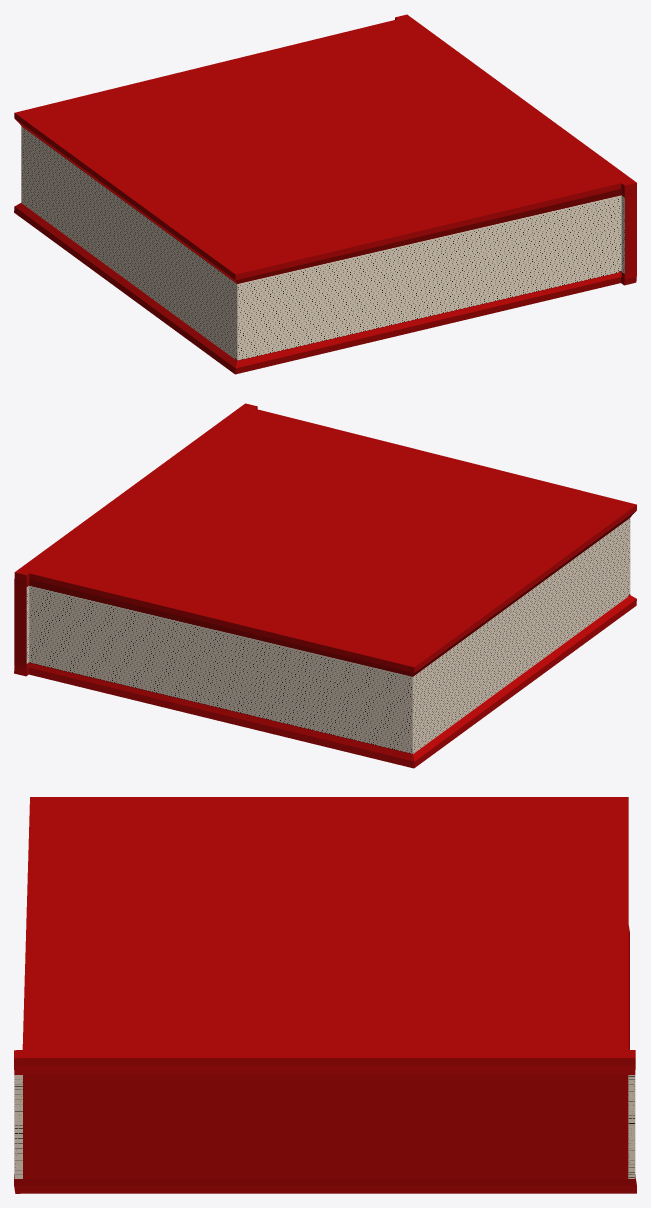
The model's file is Book.fbx.
3 views of the same model, one above another, from view 1: azimuth 30°, elevation 25°; view 2: azimuth 150°, elevation 25°; view 3: azimuth 270°, elevation 25° (orthographic). The views are drawn at different scales.
Visible parts, largest first — view 1: Cube; view 2: Cube; view 3: Cube.
Boxes of the visible parts, x1=… form: Cube: x1=14, y1=14, x2=636, y2=374; Cube: x1=14, y1=403, x2=636, y2=768; Cube: x1=14, y1=797, x2=636, y2=1193.
Bounding box in the file's own units: 207 × 50.1 × 208.
1 material, 1 textured.
